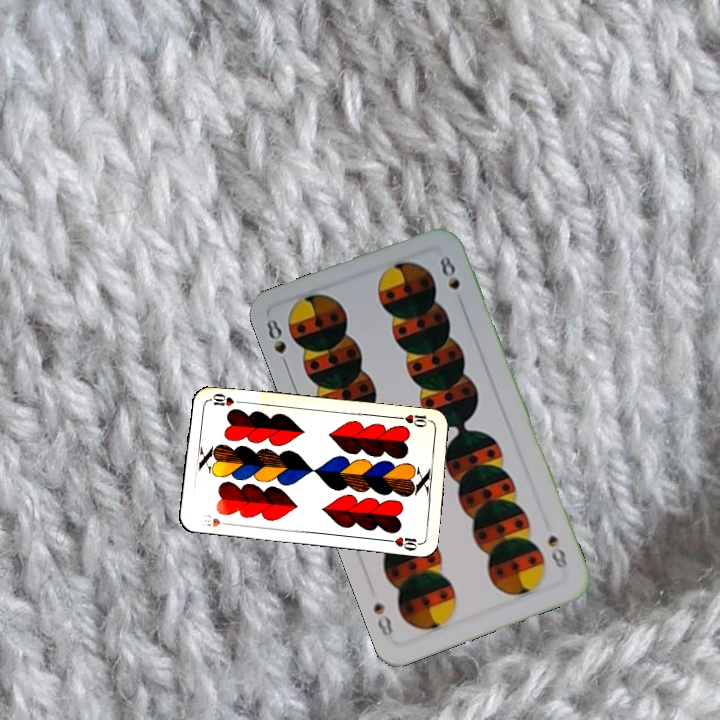H10: (394, 410, 435, 430), (199, 510, 234, 529)
S8: (262, 314, 292, 372), (543, 531, 570, 574)
